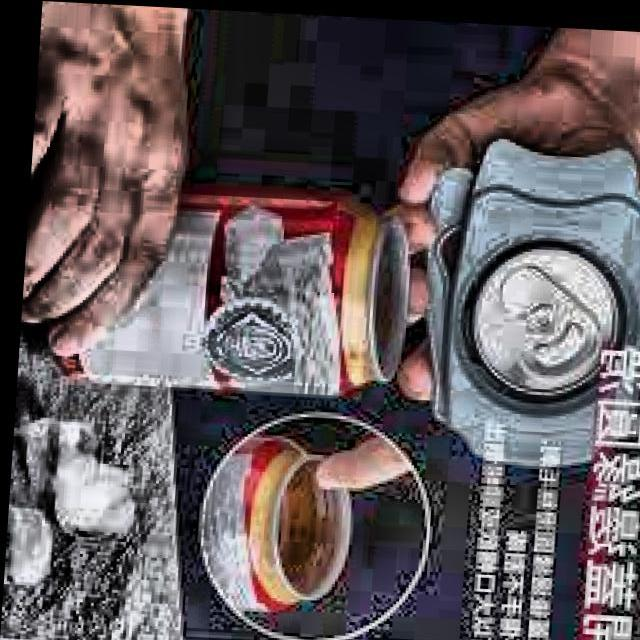litter: (39, 171, 422, 404), (178, 423, 360, 619)
